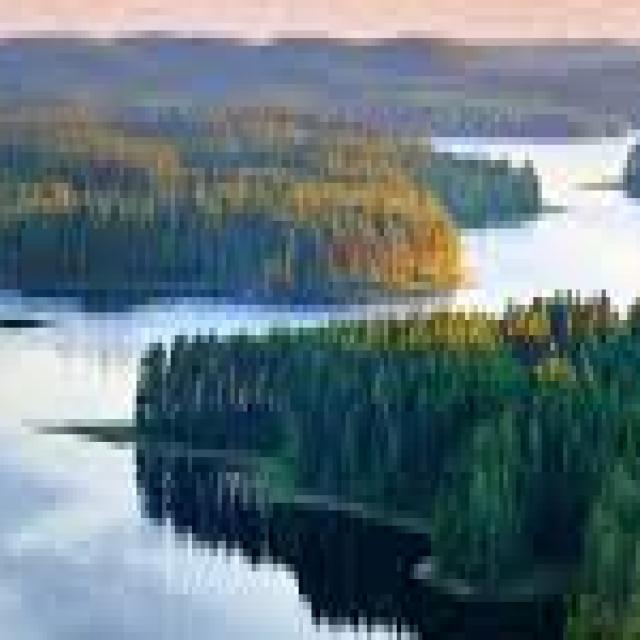-: (0, 320, 158, 579), (0, 503, 256, 640), (81, 556, 282, 640), (556, 161, 619, 342), (580, 198, 640, 290)
